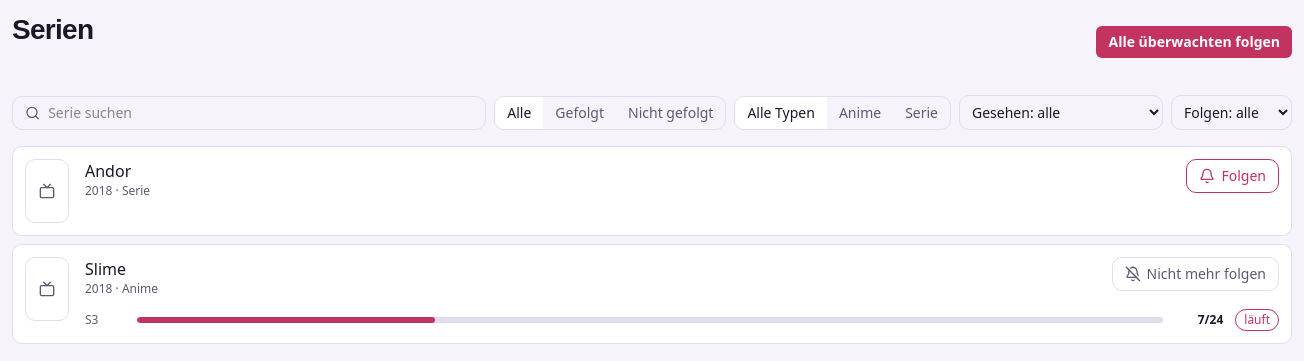
filters go into the request
Expected: the link "Andor" is shown, [85,160,131,182]
Click the button "Gefolgt" at (580, 112), box [543,96,616,128]
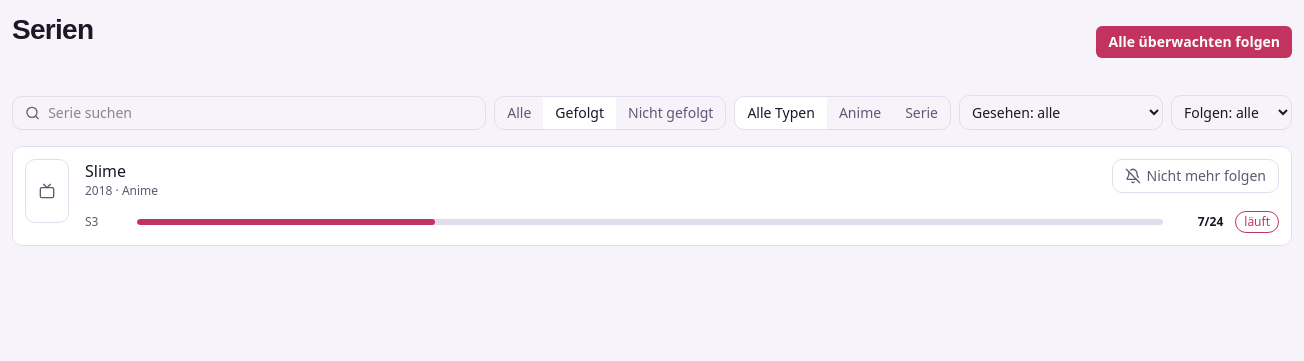
Now the link "Andor" is gone
